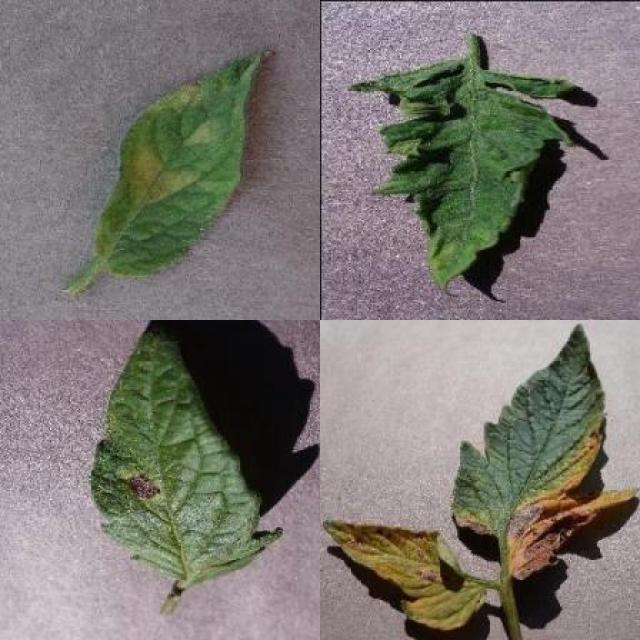Early Blight: (88, 328, 286, 589), (451, 322, 640, 584)
Leaf Mold: (96, 50, 270, 277)
Mosaic Virus: (346, 58, 581, 296)
